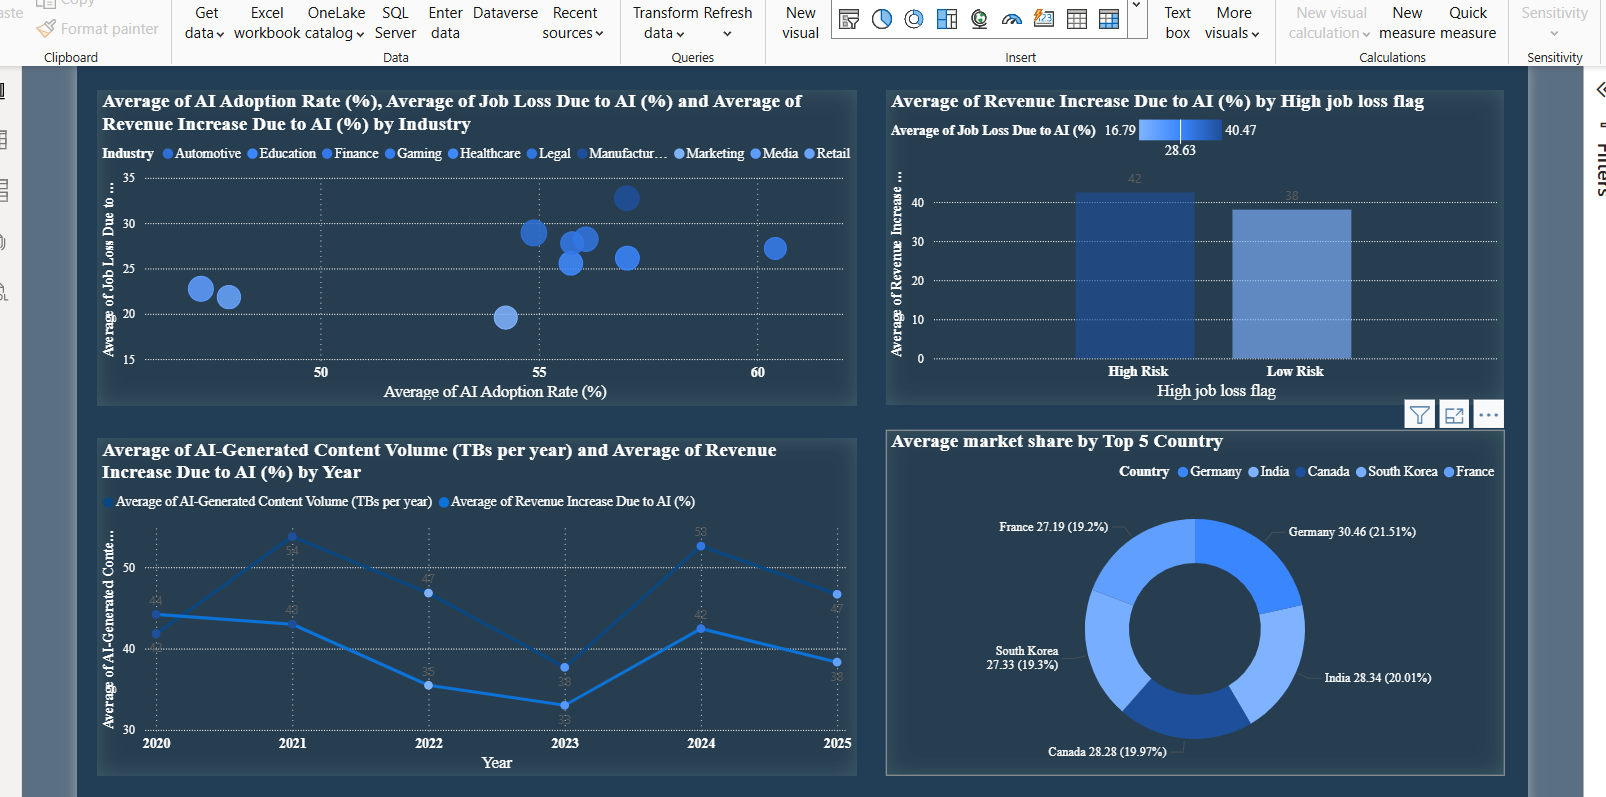

The dashboard page shown, as its layout file describes it:
{"tool":"powerbi","page":{"name":"Page 2","canvas":[1400,720],"ordinal":1},"visuals":[{"type":"scatterChart","fields":{"X":["Avg(Global_AI_Content_Impact_Dataset.AI Adoption Rate (%))"],"Series":["Global_AI_Content_Impact_Dataset.Industry"],"Y":["Avg(Global_AI_Content_Impact_Dataset.Job Loss Due to AI (%))"],"Size":["Avg(Global_AI_Content_Impact_Dataset.Revenue Increase Due to AI (%))"]},"box":[19.6,23.2,733.7,304.5],"z":0},{"type":"columnChart","fields":{"Category":["Global_AI_Content_Impact_Dataset.High job loss flag"],"Y":["Avg(Global_AI_Content_Impact_Dataset.Revenue Increase Due to AI (%))"]},"box":[780.6,22.9,597.2,304],"z":1000},{"type":"donutChart","title":"Average market share by Top 5 Country","fields":{"Category":["Global_AI_Content_Impact_Dataset.Country"],"Y":["Global_AI_Content_Impact_Dataset.Average market share"]},"box":[780.6,351.1,597.2,334.2],"z":2000},{"type":"lineChart","fields":{"Category":["Global_AI_Content_Impact_Dataset.Year"],"Y":["Avg(Global_AI_Content_Impact_Dataset.AI-Generated Content Volume (TBs per year))","Avg(Global_AI_Content_Impact_Dataset.Revenue Increase Due to AI (%))"]},"box":[19.3,359.5,733.5,325.7],"z":3000}]}

Visuals, with their boxes on the page's 1400x720 design canvas (x1, y1, x2, y2). These are canvas units, not pixel positions in the 1606x797 screenshot, which may show the page scaled, cropped or inside an application window:
scatterChart - Avg(Global_AI_Content_Impact_Dataset.AI Adoption Rate (%)) x Global_AI_Content_Impact_Dataset.Industry: box(20, 23, 753, 328)
columnChart - Global_AI_Content_Impact_Dataset.High job loss flag x Avg(Global_AI_Content_Impact_Dataset.Revenue Increase Due to AI (%)): box(781, 23, 1378, 327)
"Average market share by Top 5 Country" donutChart: box(781, 351, 1378, 685)
lineChart - Global_AI_Content_Impact_Dataset.Year x Avg(Global_AI_Content_Impact_Dataset.AI-Generated Content Volume (TBs per year)): box(19, 360, 753, 685)
